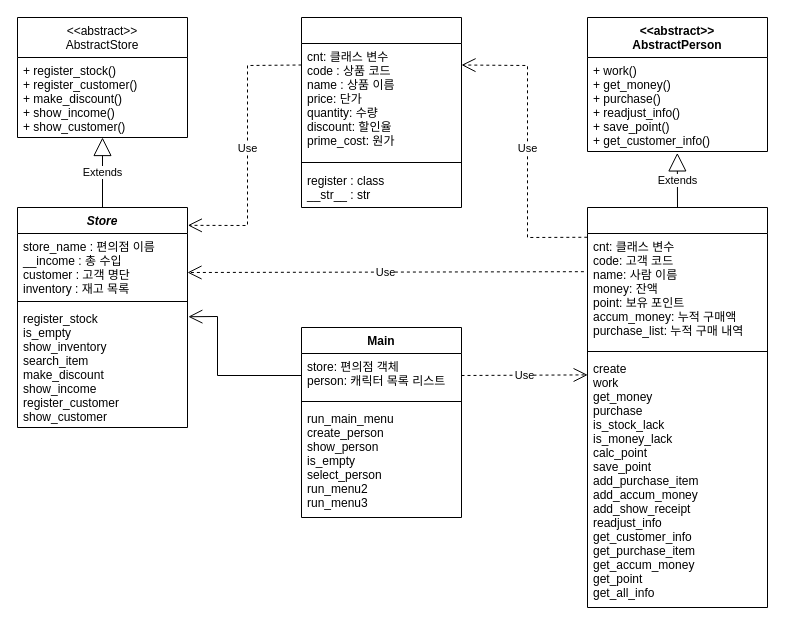
This 785x628 diagram has some shape labels left out. The shapes that lost their labels are listed below. From the top down, each one's box as (x1, y1, x2, y2) in pixels, then its label:
(300, 16, 462, 208): Product
(586, 206, 768, 608): Person
